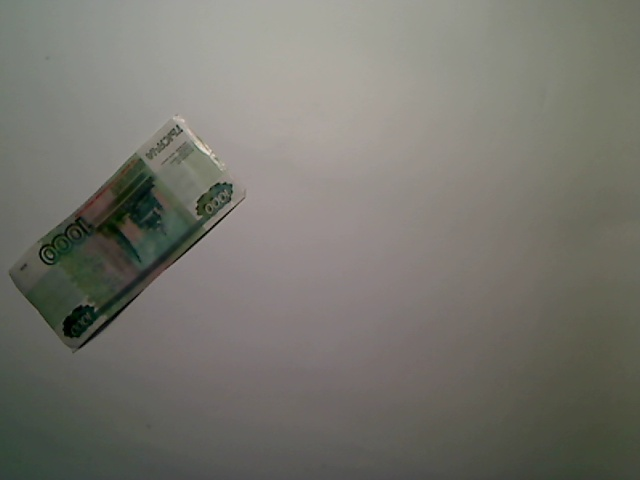banknotes: (5, 108, 250, 359)
